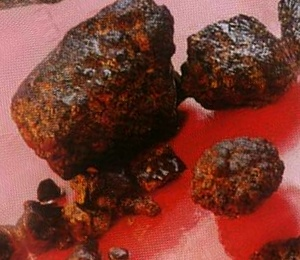halobolite: (1, 1, 221, 199), (199, 18, 294, 111), (183, 148, 271, 219), (66, 165, 139, 231), (22, 164, 79, 226), (1, 212, 59, 260), (135, 151, 184, 186), (66, 205, 96, 242)
